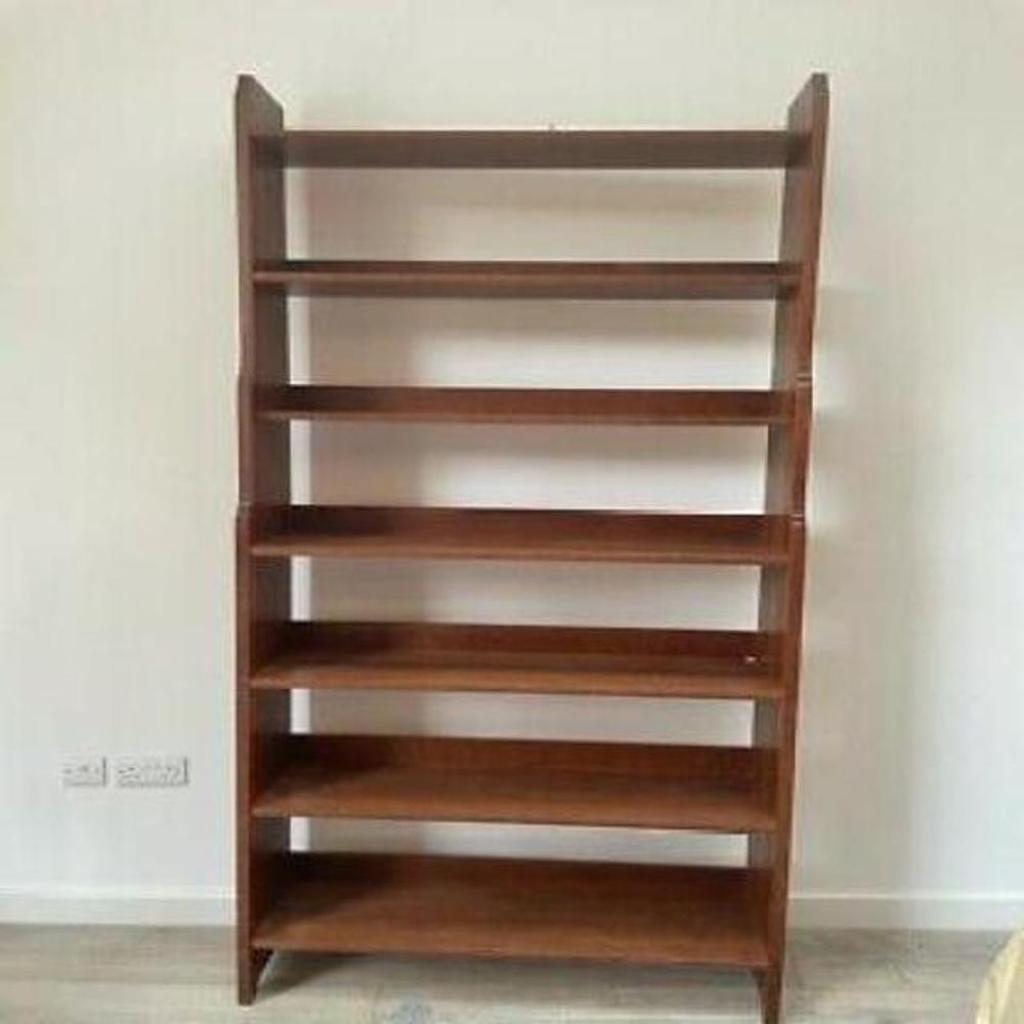lamp: (228, 69, 833, 1022)
